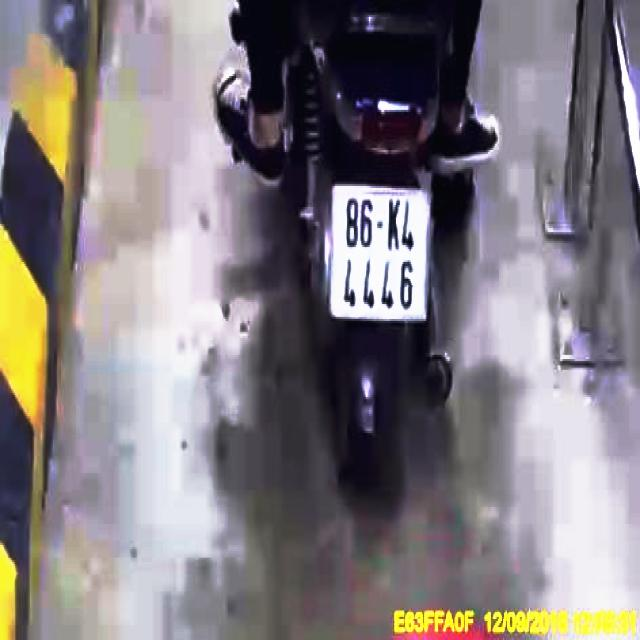license_plate: (333, 183, 434, 324)
